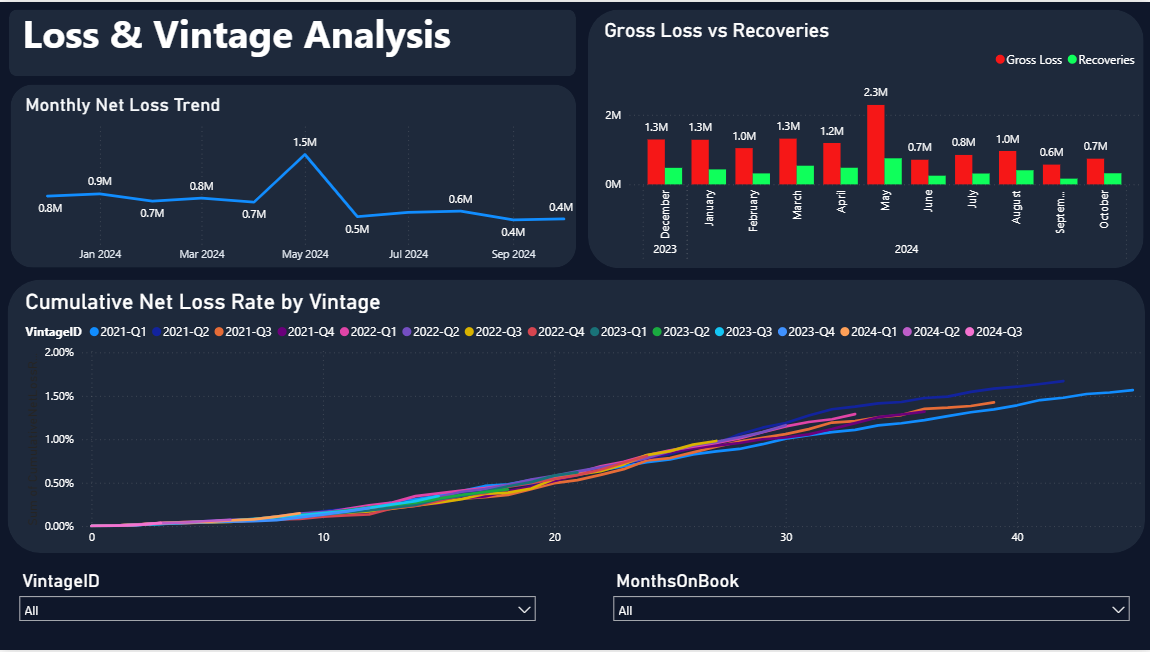

Layout of this report page (visuals, bound fields, positions):
{"tool":"powerbi","page":{"name":"Loss & Vintage Analysis","canvas":[1280,720],"ordinal":2},"visuals":[{"type":"shape","box":[10.6,7.6,629.9,74.2],"z":0},{"type":"shape","box":[653.8,8.8,617.5,287.5],"z":1000,"group":"g2"},{"type":"shape","box":[11,91,628.5,203.6],"z":1000,"group":"g1"},{"type":"shape","box":[8,308,1264,304],"z":1000},{"type":"textbox","box":[19.7,0,596.6,139.3],"z":2000},{"type":"group","id":"g1","title":"Group 1","box":[11,91,644,205],"z":3000},{"type":"clusteredColumnChart","title":"Gross Loss vs Recoveries","fields":{"Y":["Sum(dynamic_loss_monthly.GrossLoss_ThisMonth)","Sum(dynamic_loss_monthly.Recoveries_ThisMonth)"],"Category":["dynamic_loss_monthly.ReportingDate.Variation.Date Hierarchy.Year","dynamic_loss_monthly.ReportingDate.Variation.Date Hierarchy.Month"]},"box":[667.1,18.3,604.2,278],"z":3001,"group":"g2"},{"type":"lineChart","title":"Cumulative Net Loss Rate by Vintage","fields":{"Category":["static_pool_vintage_data.MonthsOnBook"],"Y":["Sum(static_pool_vintage_data.CumulativeNetLossRate)"],"Series":["static_pool_vintage_data.VintageID"]},"box":[22.5,318.8,1250,293.8],"z":4000},{"type":"group","id":"g2","title":"Group 2","box":[653.8,8.8,617.5,287.5],"z":5000},{"type":"slicer","fields":{"Values":["static_pool_vintage_data.VintageID"]},"box":[11.7,625,593.3,78.3],"z":5001},{"type":"slicer","fields":{"Values":["static_pool_vintage_data.MonthsOnBook"]},"box":[671.7,625,593.3,78.3],"z":5002},{"type":"lineChart","title":"Monthly Net Loss Trend","fields":{"Y":["Sum(dynamic_loss_monthly.NetLoss_ThisMonth)"],"Category":["dynamic_loss_monthly.ReportingDate.Variation.Date Hierarchy.Year","dynamic_loss_monthly.ReportingDate.Variation.Date Hierarchy.Month"]},"box":[21.9,100.3,633,196],"z":9001,"group":"g1"}]}

Visuals, with their boxes in screenshot pixels (x1, y1, x2, y2), scaled from the page's 1280x720 canvas onto the 1150x652 screenshot:
shape: [left=10, top=7, right=575, bottom=74]
shape: [left=587, top=8, right=1142, bottom=268]
shape: [left=10, top=82, right=575, bottom=267]
shape: [left=7, top=279, right=1143, bottom=554]
textbox: [left=18, top=0, right=554, bottom=126]
"Group 1" group: [left=10, top=82, right=588, bottom=268]
"Gross Loss vs Recoveries" clusteredColumnChart: [left=599, top=17, right=1142, bottom=268]
"Cumulative Net Loss Rate by Vintage" lineChart: [left=20, top=289, right=1143, bottom=555]
"Group 2" group: [left=587, top=8, right=1142, bottom=268]
slicer - static_pool_vintage_data.VintageID: [left=11, top=566, right=544, bottom=637]
slicer - static_pool_vintage_data.MonthsOnBook: [left=603, top=566, right=1137, bottom=637]
"Monthly Net Loss Trend" lineChart: [left=20, top=91, right=588, bottom=268]
